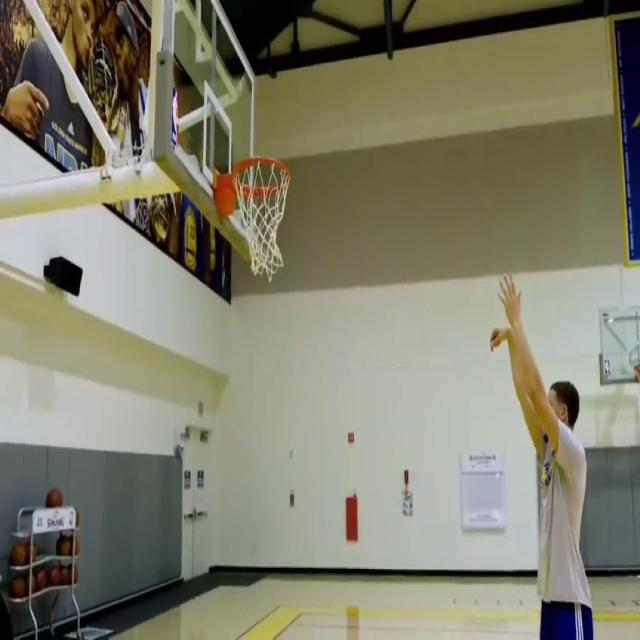ball: (211, 173, 238, 222), (9, 544, 27, 574), (44, 484, 62, 508), (60, 562, 78, 586), (56, 533, 73, 558), (10, 580, 26, 600), (47, 565, 60, 588), (38, 568, 48, 590)
